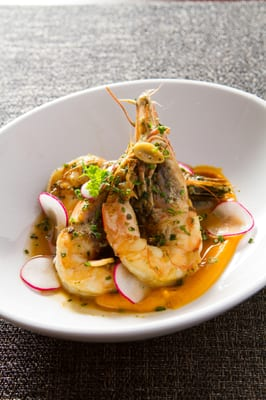curry: (81, 165, 109, 199)
sushi: (1, 73, 262, 345)
